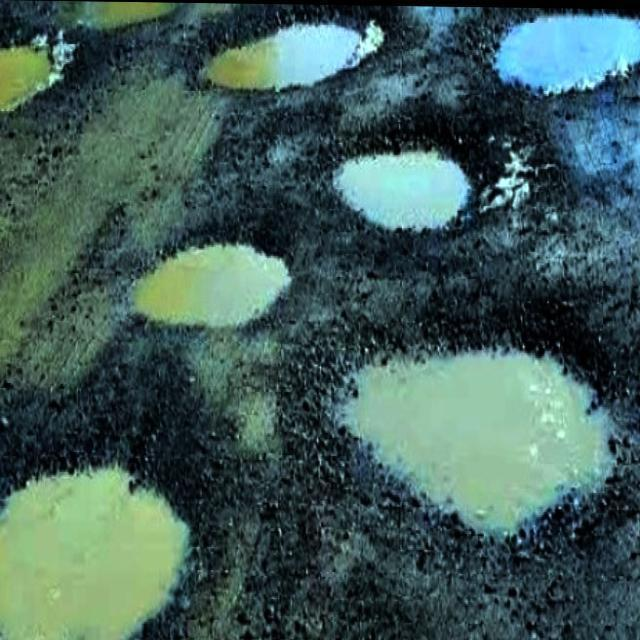Pothole: (326, 328, 626, 538), (0, 465, 191, 640), (202, 4, 387, 93), (485, 6, 640, 97), (132, 233, 289, 321), (334, 138, 473, 225), (0, 32, 63, 110), (42, 2, 179, 37)
